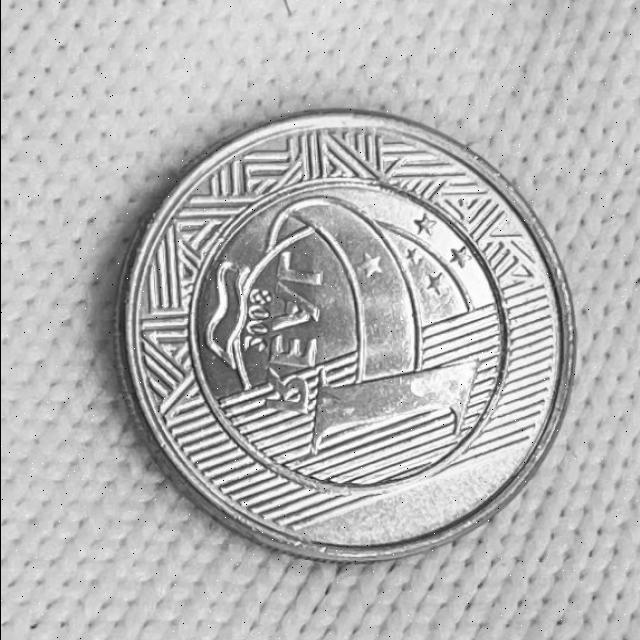1 real: (112, 121, 578, 554)
